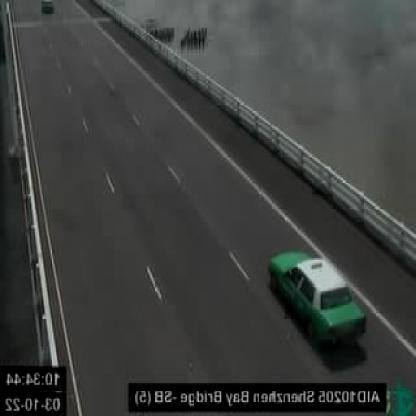Car: (266, 251, 366, 340)
